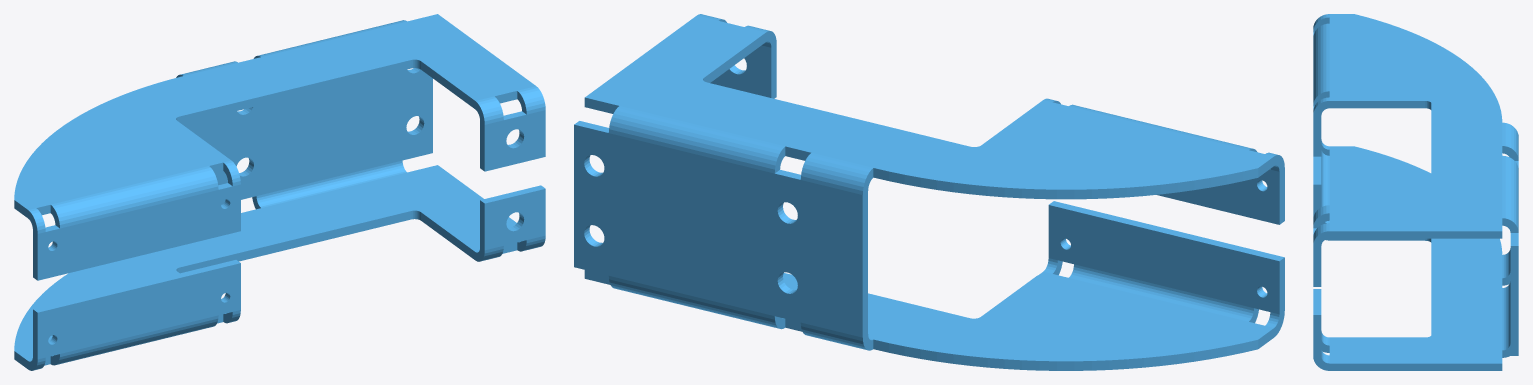
The model's file is Kurbelblock_V17_8mm.gltf.
3 renders of one model, left to right at view 1: azimuth 30°, elevation 25°; view 2: azimuth 150°, elevation 25°; view 3: azimuth 270°, elevation 25°, orthographic. The views are drawn at different scales.
Parts seen in each view (by area): view 1: Kurbelblock_V17_8mm; view 2: Kurbelblock_V17_8mm; view 3: Kurbelblock_V17_8mm.
Part boxes in pixels (<box>): Kurbelblock_V17_8mm: <box>14,14,545,370</box>; Kurbelblock_V17_8mm: <box>574,14,1284,370</box>; Kurbelblock_V17_8mm: <box>1313,14,1518,370</box>.
Bounding box in the file's own units: 500 × 150 × 200.
